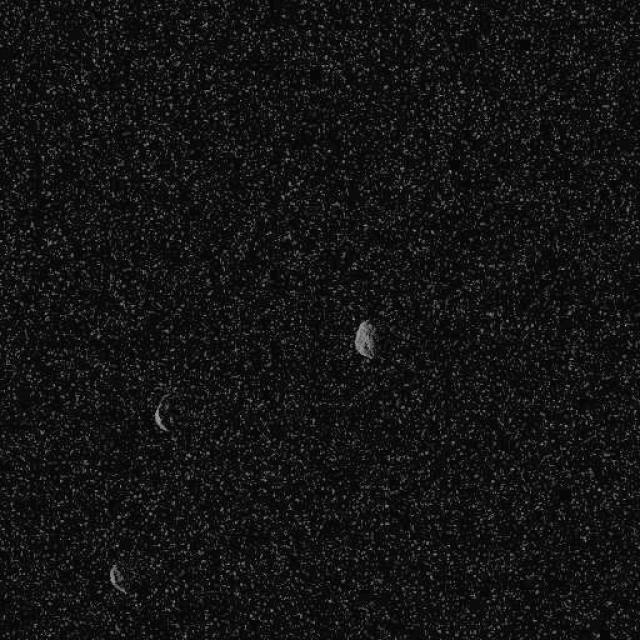D2: (352, 319, 377, 360), (153, 391, 175, 434), (108, 563, 128, 595)
